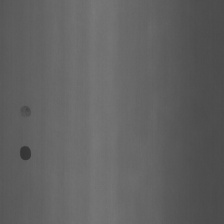oil_spot: (19, 144, 32, 162), (19, 104, 30, 120)
